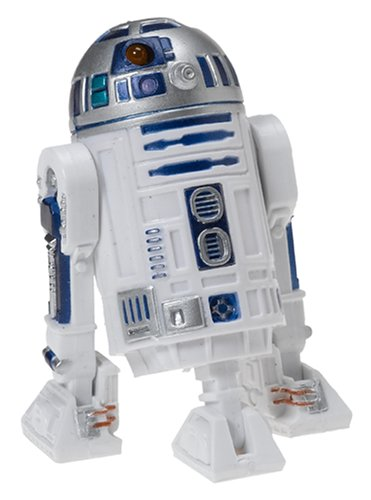r2d2: (21, 17, 349, 476)
